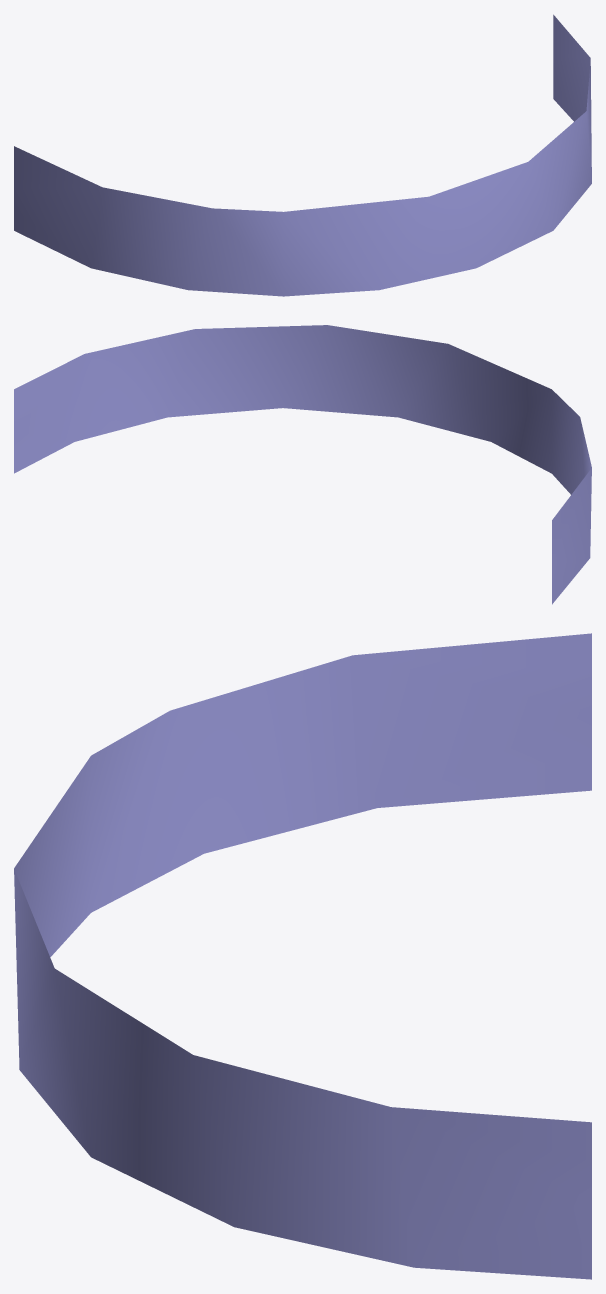
The model's file is original-125.obj.
3 renders of one model, top to bottom at view 1: azimuth 30°, elevation 25°; view 2: azimuth 150°, elevation 25°; view 3: azimuth 270°, elevation 25°, orthographic. The views are drawn at different scales.
Visible parts, largest first — view 1: Group94/mesh121/mesh121-geometry#mesh121-geometry; view 2: Group94/mesh121/mesh121-geometry#mesh121-geometry; view 3: Group94/mesh121/mesh121-geometry#mesh121-geometry.
Boxes of the visible parts, box(x1,y1,x2,y2) form: Group94/mesh121/mesh121-geometry#mesh121-geometry: box(14, 14, 591, 296); Group94/mesh121/mesh121-geometry#mesh121-geometry: box(14, 325, 591, 604); Group94/mesh121/mesh121-geometry#mesh121-geometry: box(14, 633, 591, 1279).
Bounding box in the file's own units: 0.3004 × 0.0451 × 0.1501.
